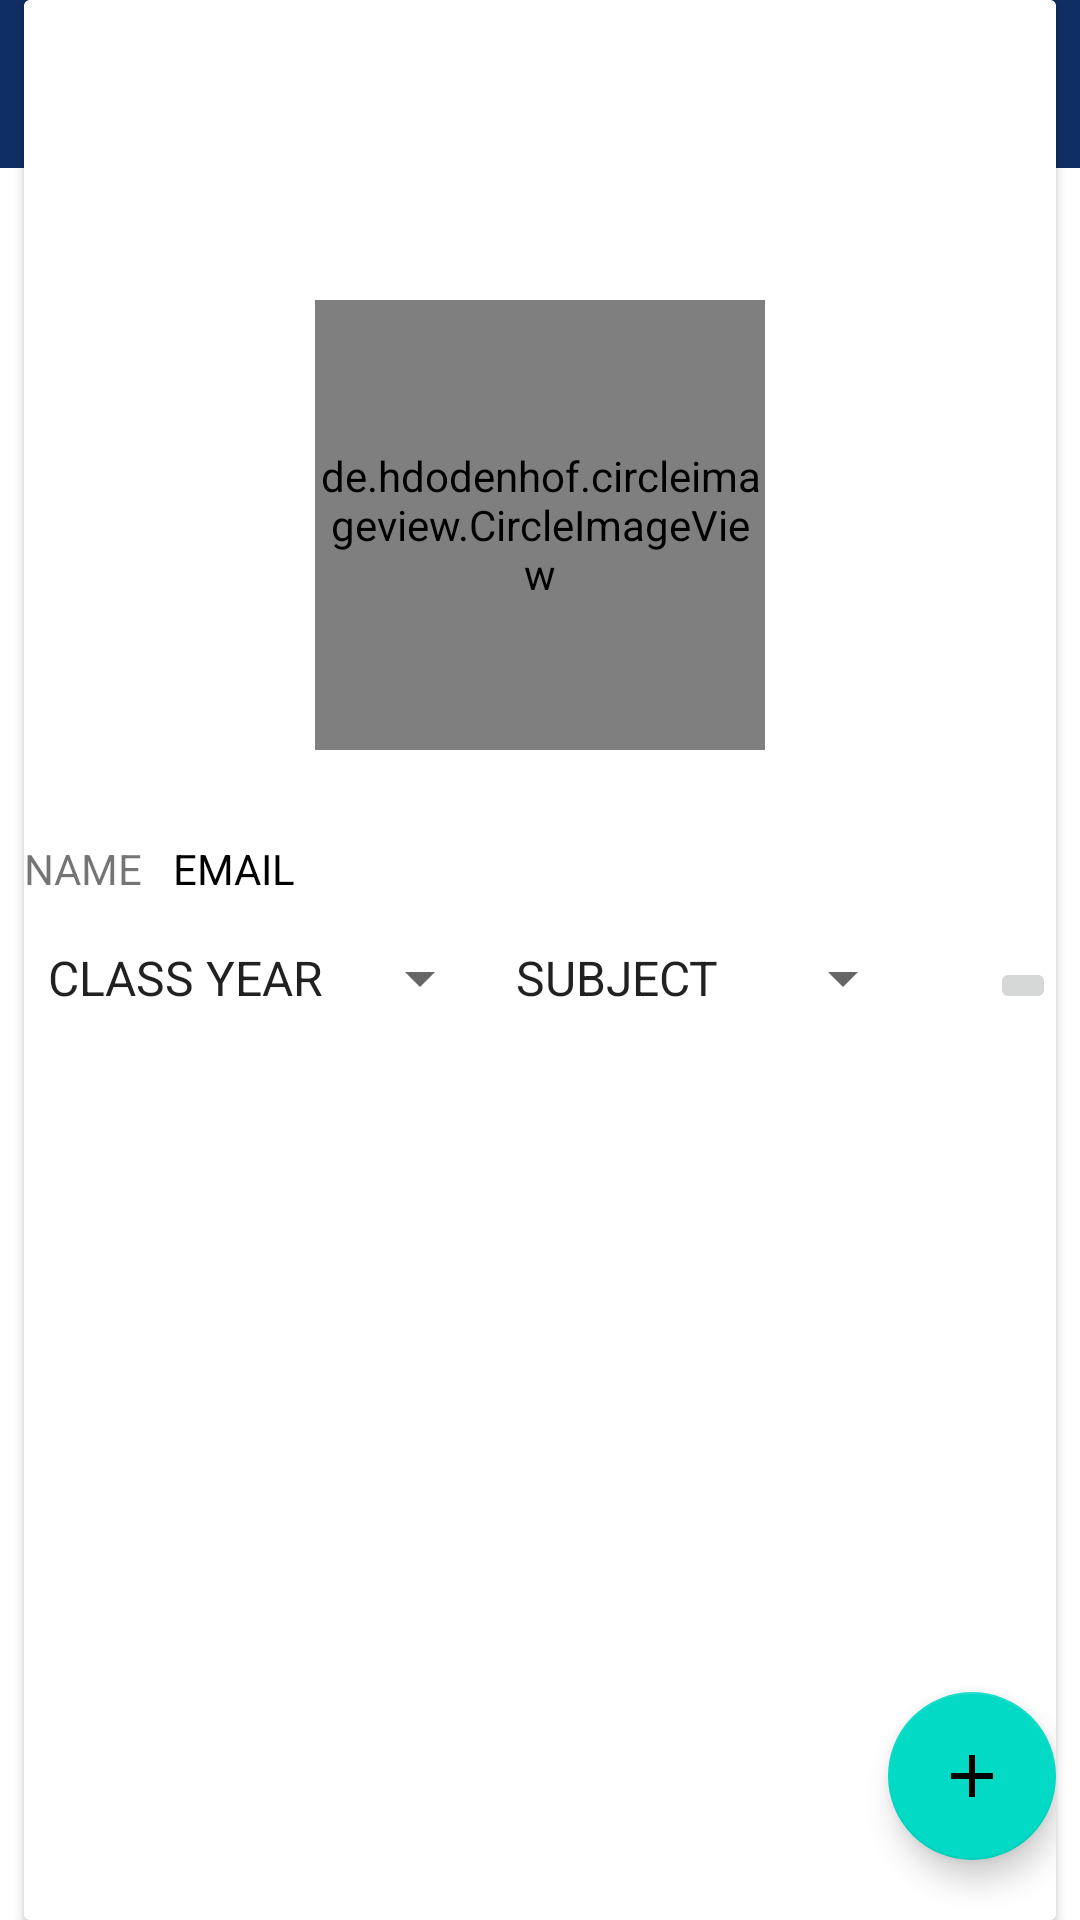

Icon click points for this 1080 × 1920 phone screenshot, format (x=x, y=y):
add: (x=972, y=1776)
